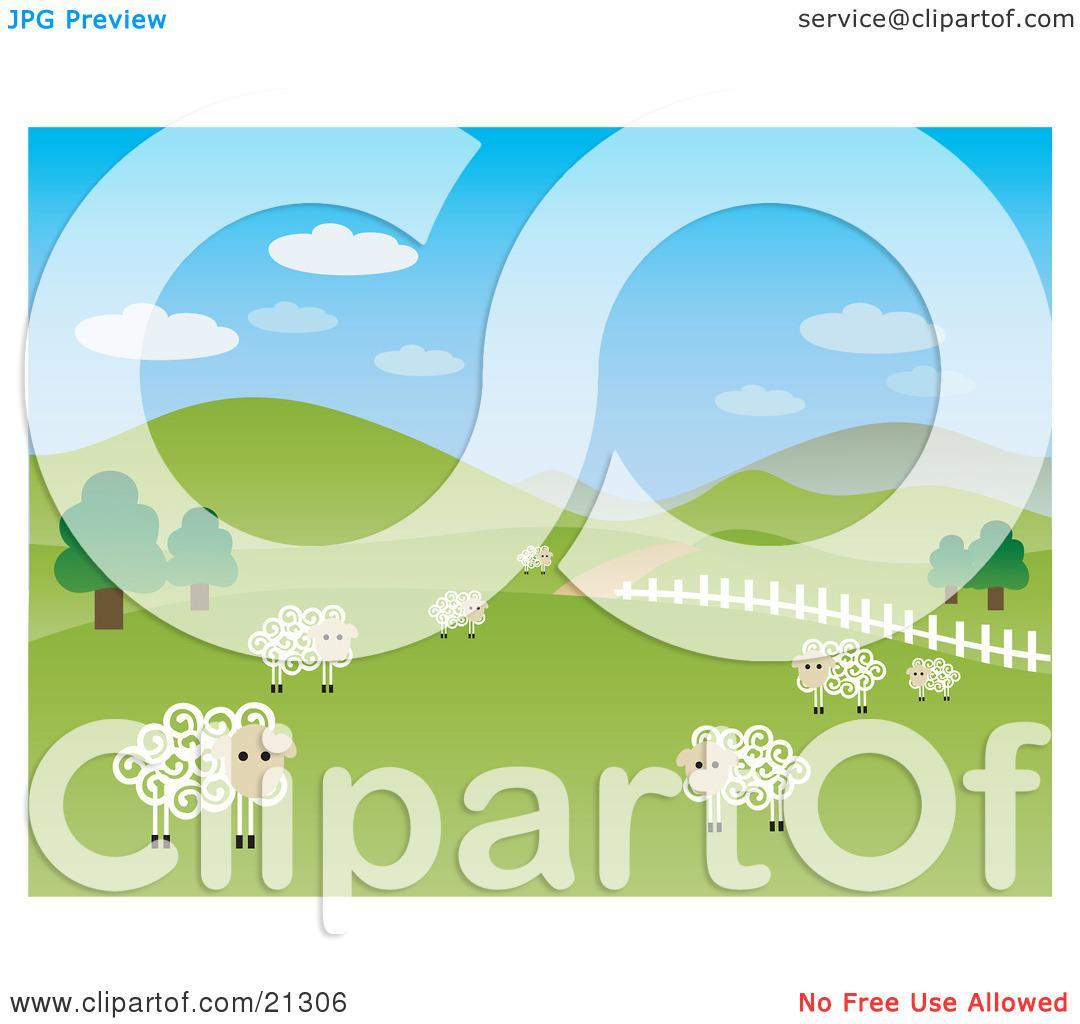sheep: (96, 685, 299, 854), (665, 710, 809, 844), (228, 597, 367, 689), (776, 628, 887, 725), (415, 581, 492, 653), (903, 654, 968, 706), (509, 537, 555, 572)
